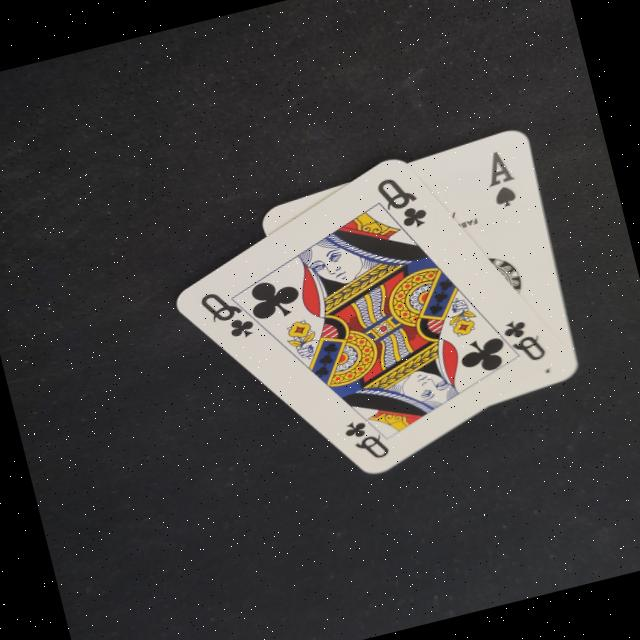As: (461, 136, 531, 220)
Qc: (367, 162, 438, 242), (190, 272, 262, 350), (334, 396, 396, 470), (494, 306, 550, 372)
